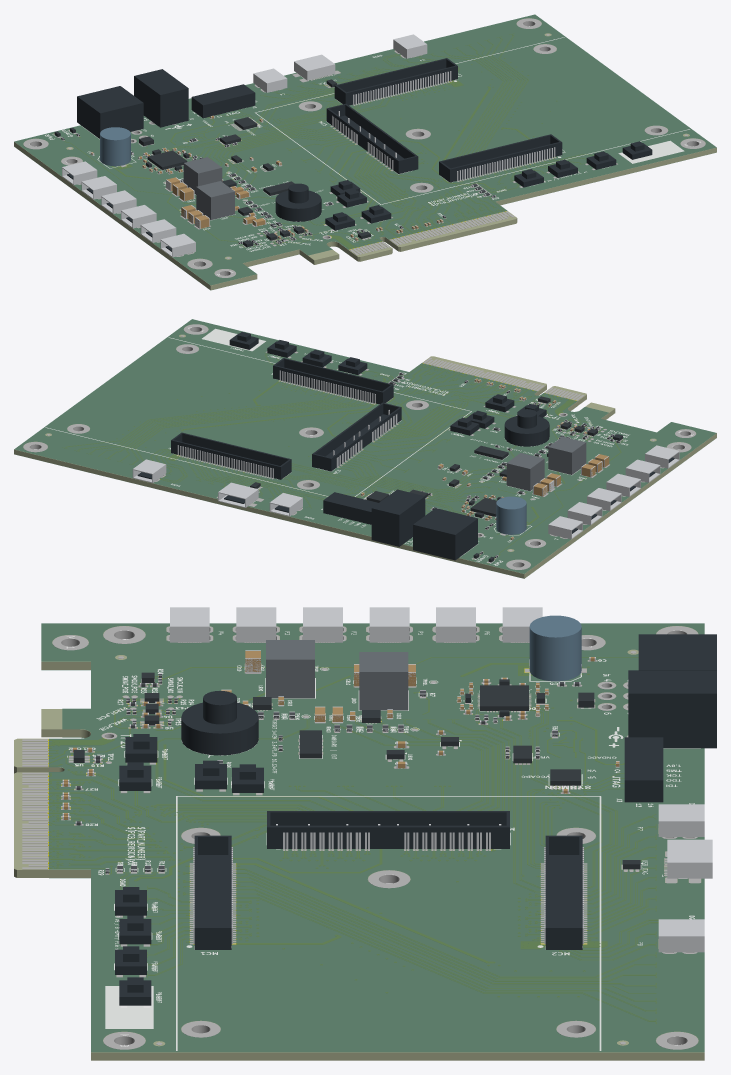
The model's file is carrier-v8.glb.
3 views of the same model, one above another, from view 1: azimuth 30°, elevation 25°; view 2: azimuth 150°, elevation 25°; view 3: azimuth 270°, elevation 25° (orthographic). The views are drawn at different scales.
Visible parts, largest first — view 1: PCB_Surface_6, PCB_Surface_8, PCB_Surface_2, PCB_Surface_4, MC1, MC2, MC3, J5, J4, J3, SW600, L900 (+13 smaller); view 2: PCB_Surface_6, PCB_Surface_8, PCB_Surface_2, MC2, MC1, PCB_Surface_4, J5, MC3, J4, SW600, L900, L800 (+12 smaller); view 3: PCB_Surface_6, PCB_Surface_8, PCB_Surface_2, MC3, PCB_Surface_4, J4, MC1, MC2, PCB_Surface_1, SW600, C5, L800 (+21 smaller).
Boxes of the visible parts, x1=… form: PCB_Surface_6: x1=14, y1=14, x2=716, y2=285; PCB_Surface_8: x1=14, y1=15, x2=716, y2=290; PCB_Surface_2: x1=23, y1=18, x2=705, y2=277; PCB_Surface_4: x1=29, y1=22, x2=700, y2=275; MC1: x1=439, y1=134, x2=562, y2=182; MC2: x1=334, y1=58, x2=457, y2=105; MC3: x1=326, y1=103, x2=418, y2=173; J5: x1=77, y1=86, x2=143, y2=138; J4: x1=134, y1=69, x2=188, y2=127; J3: x1=191, y1=84, x2=255, y2=118; SW600: x1=275, y1=183, x2=321, y2=221; L900: x1=196, y1=181, x2=234, y2=219; PCB_Surface_6: x1=14, y1=319, x2=716, y2=573; PCB_Surface_8: x1=14, y1=320, x2=716, y2=578; PCB_Surface_2: x1=23, y1=324, x2=695, y2=569; MC2: x1=171, y1=432, x2=291, y2=479; MC1: x1=273, y1=358, x2=393, y2=404; PCB_Surface_4: x1=30, y1=327, x2=693, y2=566; J5: x1=413, y1=508, x2=477, y2=560; MC3: x1=312, y1=402, x2=401, y2=471; J4: x1=371, y1=489, x2=425, y2=546; SW600: x1=504, y1=409, x2=549, y2=446; L900: x1=548, y1=436, x2=586, y2=474; L800: x1=506, y1=453, x2=544, y2=491; PCB_Surface_6: x1=41, y1=623, x2=704, y2=1052; PCB_Surface_8: x1=14, y1=624, x2=704, y2=1060; PCB_Surface_2: x1=22, y1=626, x2=700, y2=1049; MC3: x1=267, y1=811, x2=509, y2=849; PCB_Surface_4: x1=66, y1=630, x2=700, y2=1050; J4: x1=628, y1=670, x2=716, y2=748; MC1: x1=193, y1=835, x2=232, y2=949; MC2: x1=544, y1=835, x2=583, y2=949; PCB_Surface_1: x1=47, y1=657, x2=657, y2=1021; SW600: x1=181, y1=691, x2=258, y2=755; C5: x1=529, y1=615, x2=581, y2=681; L800: x1=359, y1=652, x2=408, y2=710.
Bounding box in the file's own units: 0.1677 × 0.0125 × 0.1162.
